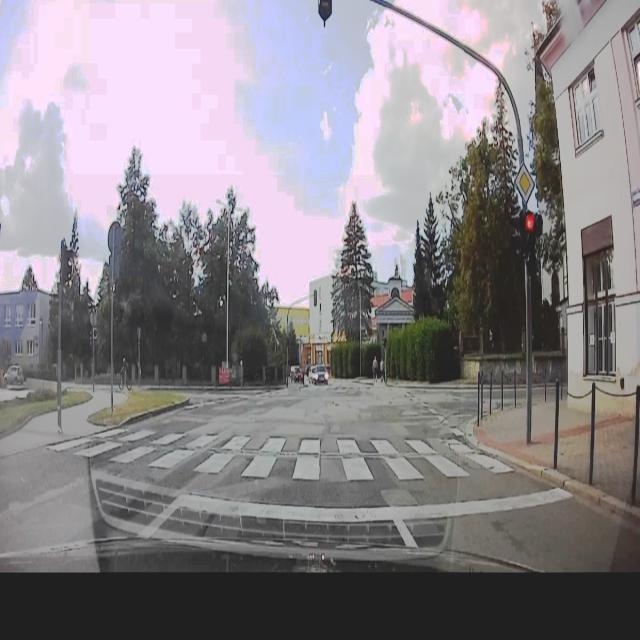Priority road: (512, 159, 535, 208)
